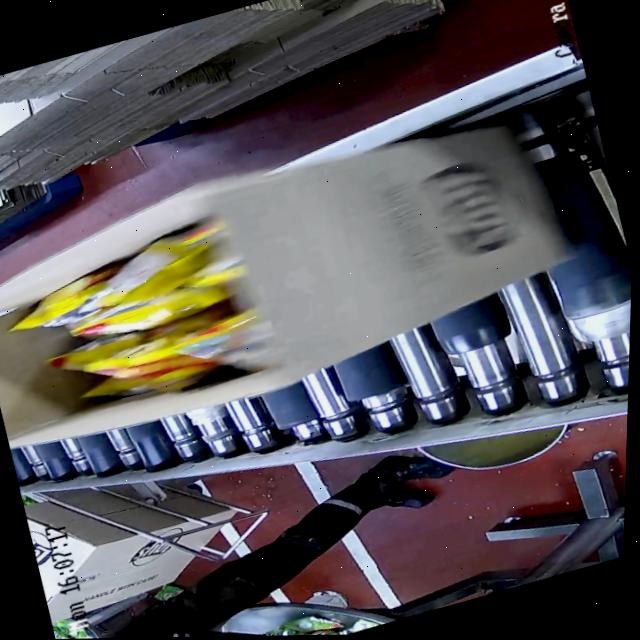SALTED: (18, 226, 244, 419)
